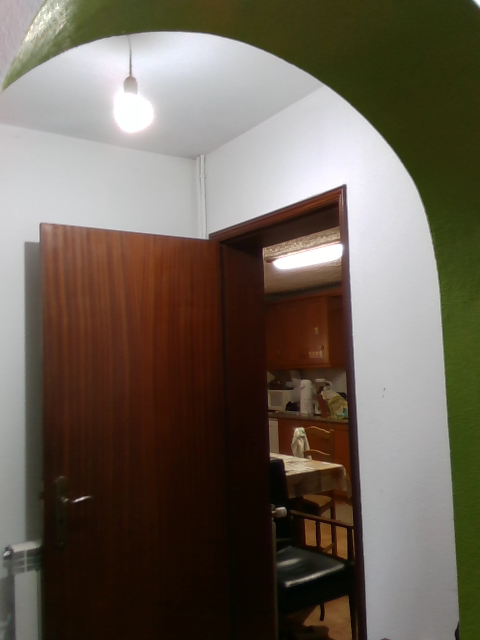open: (38, 187, 371, 639)
